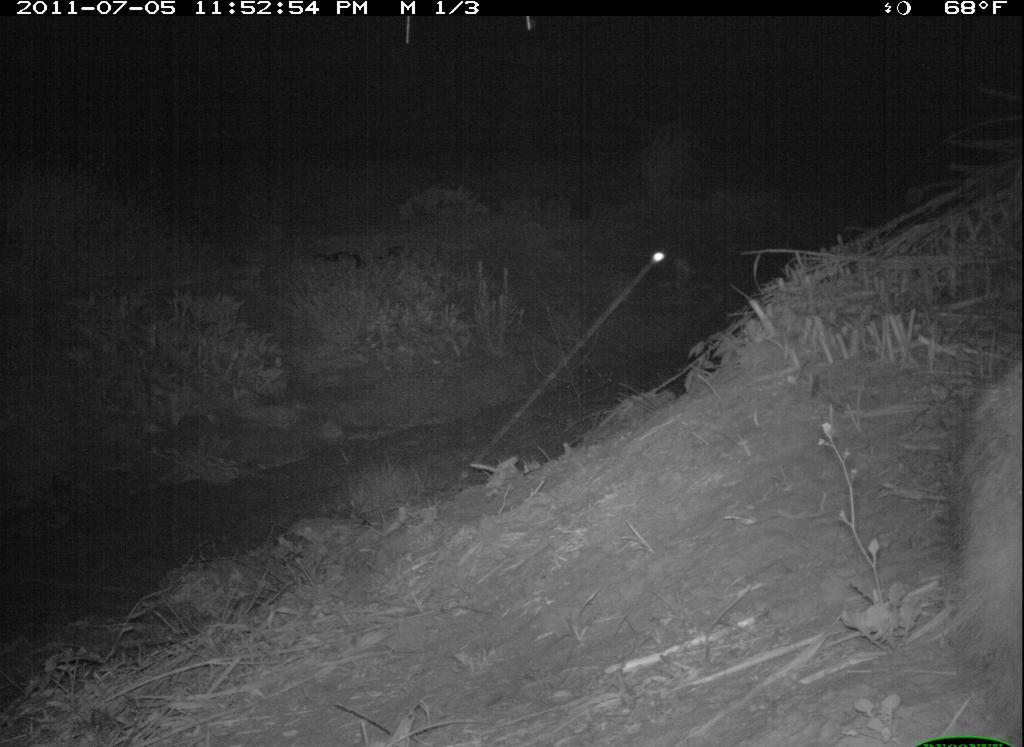raccoon: (920, 326, 1022, 747)
